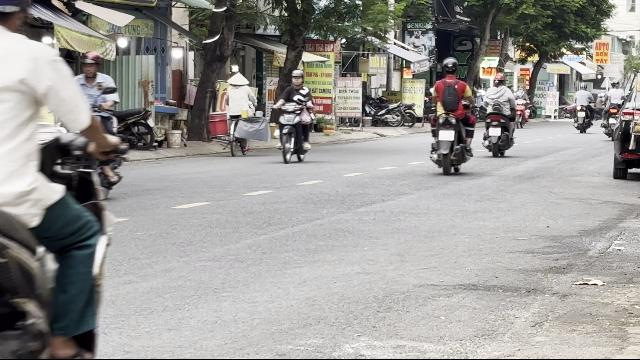helmet: (441, 57, 459, 77), (290, 70, 304, 86)
licenseplate: (438, 130, 454, 140)
motorcyclist: (426, 56, 476, 173), (268, 68, 316, 164)
